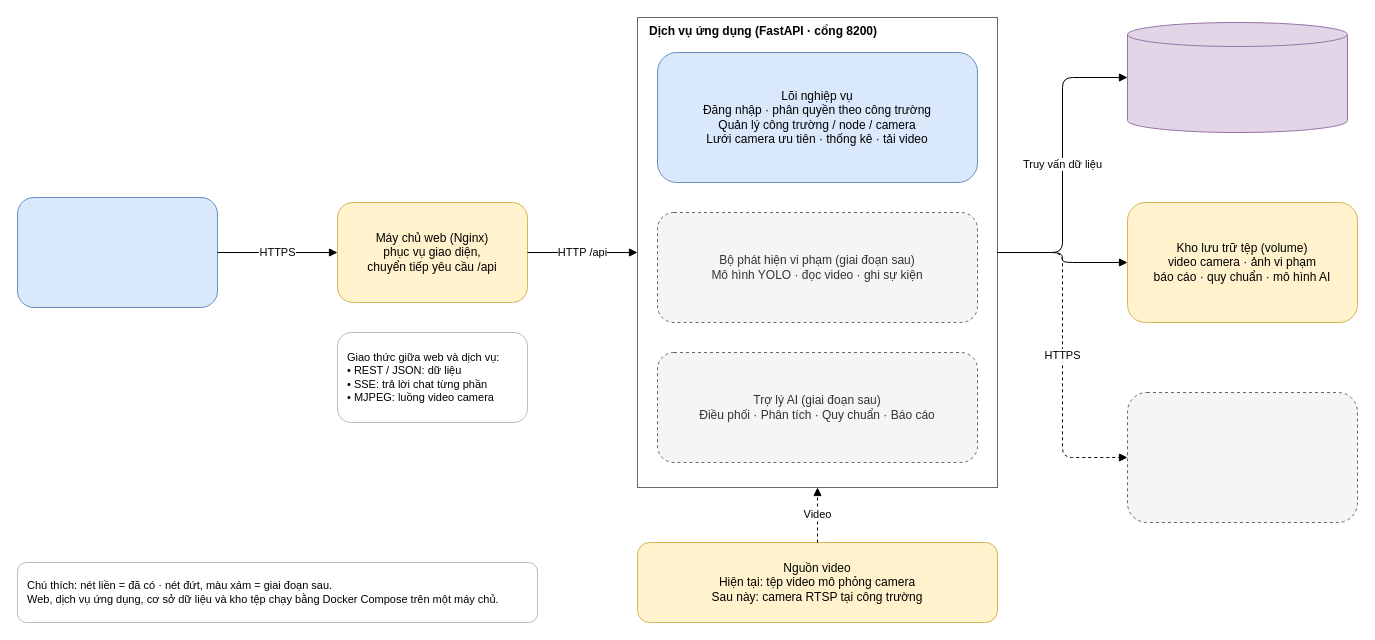
Image size: 1375x640. Some labels were removed from this diagram. The shapes that lost their labels are listed below. From the top down, each one's centre as x and y in pixels, then its label:
the point at 1237,77: Cơ sở dữ liệu PostgreSQL (tài khoản, công trường, node, camera, sự kiện vi phạm)
the point at 117,252: Người dùng Người xem · Vận hành viên Quản trị viên (trình duyệt web)
the point at 1242,457: Dịch vụ LLM bên ngoài (Anthropic, qua Internet) giai đoạn sau
